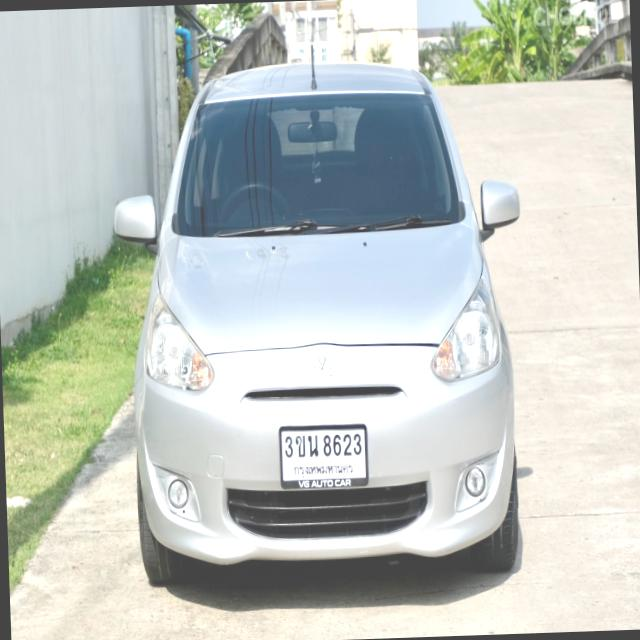license_plate: (278, 422, 368, 489)
